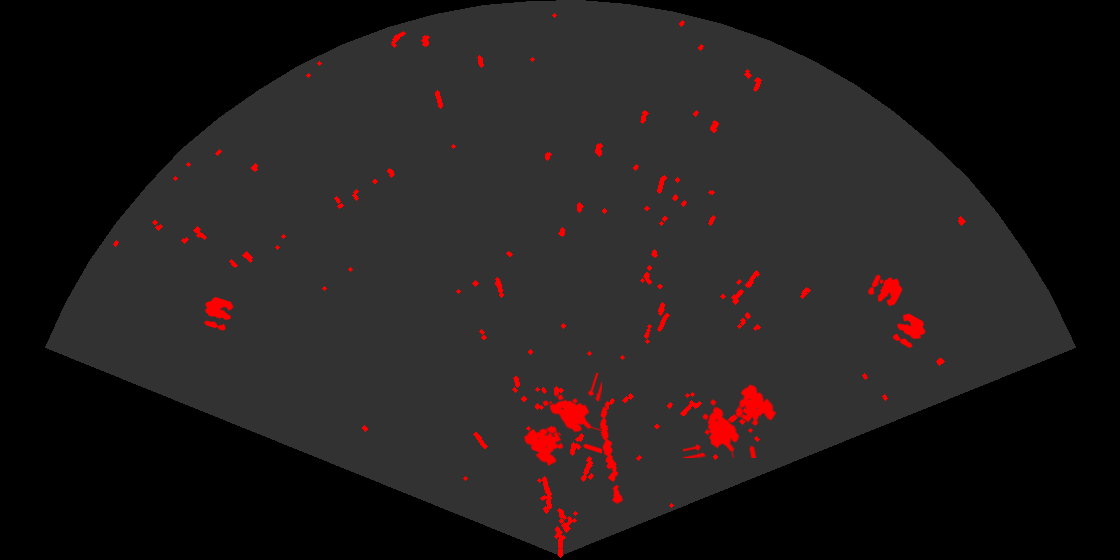ball: (891, 312, 927, 350), (866, 273, 904, 308), (202, 295, 235, 332)
cage: (522, 373, 602, 468), (683, 383, 778, 458)
chain: (598, 405, 624, 506)
